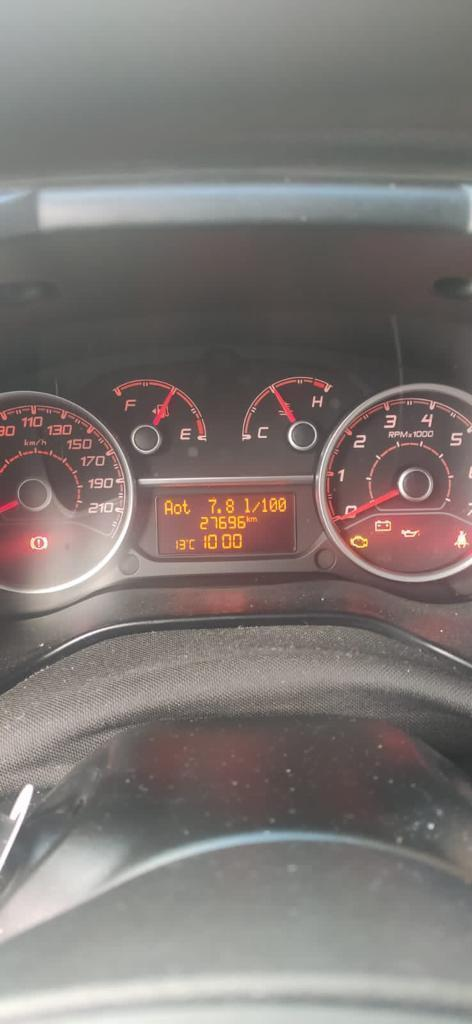,: (216, 506, 222, 514)
0: (207, 533, 217, 549), (221, 533, 231, 549), (232, 533, 242, 548), (269, 496, 277, 512), (278, 497, 286, 512)
1: (261, 496, 268, 513), (202, 533, 206, 550), (175, 538, 178, 551)
2: (199, 515, 208, 530)
3: (178, 539, 185, 550)
6: (218, 515, 227, 529), (237, 515, 246, 529)
7: (207, 497, 217, 515), (209, 515, 218, 529)
8: (224, 497, 234, 513)
9: (227, 515, 236, 530)
X: (164, 500, 173, 516), (182, 498, 190, 514), (251, 500, 260, 513), (243, 497, 250, 513), (173, 502, 181, 515), (189, 538, 196, 550), (250, 516, 257, 522), (246, 514, 250, 522)
odometer: (153, 490, 297, 558)
